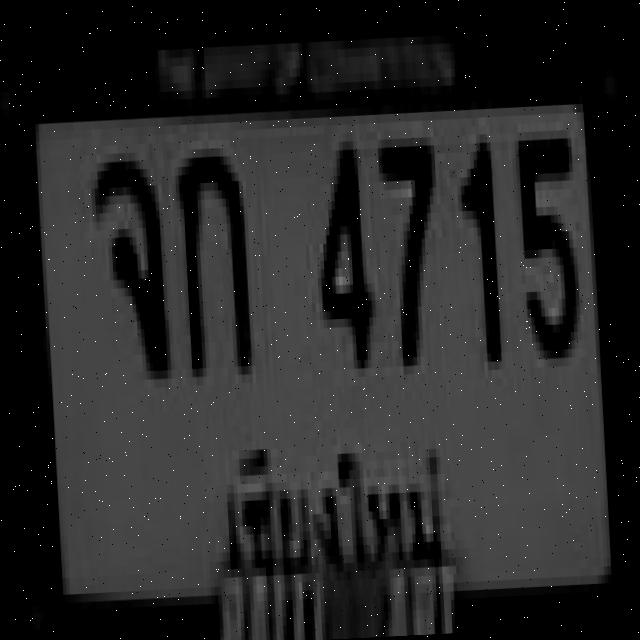1: (454, 130, 498, 358)
10GorGai: (174, 138, 248, 370)
17ChorChan: (90, 152, 168, 374)
4: (310, 132, 371, 362)
5: (514, 130, 578, 351)
7: (374, 129, 442, 359)
ChiangMai: (216, 427, 458, 594)
